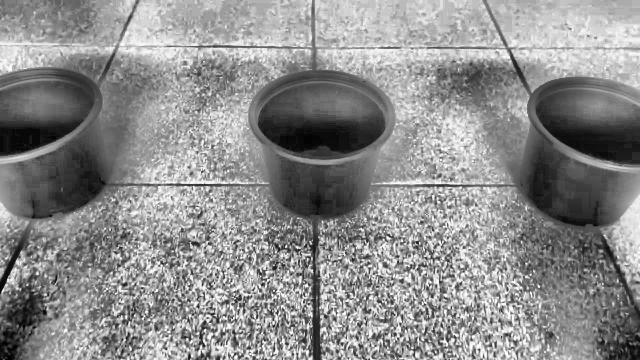pot: (248, 70, 396, 218), (518, 78, 640, 228), (0, 68, 110, 221)
